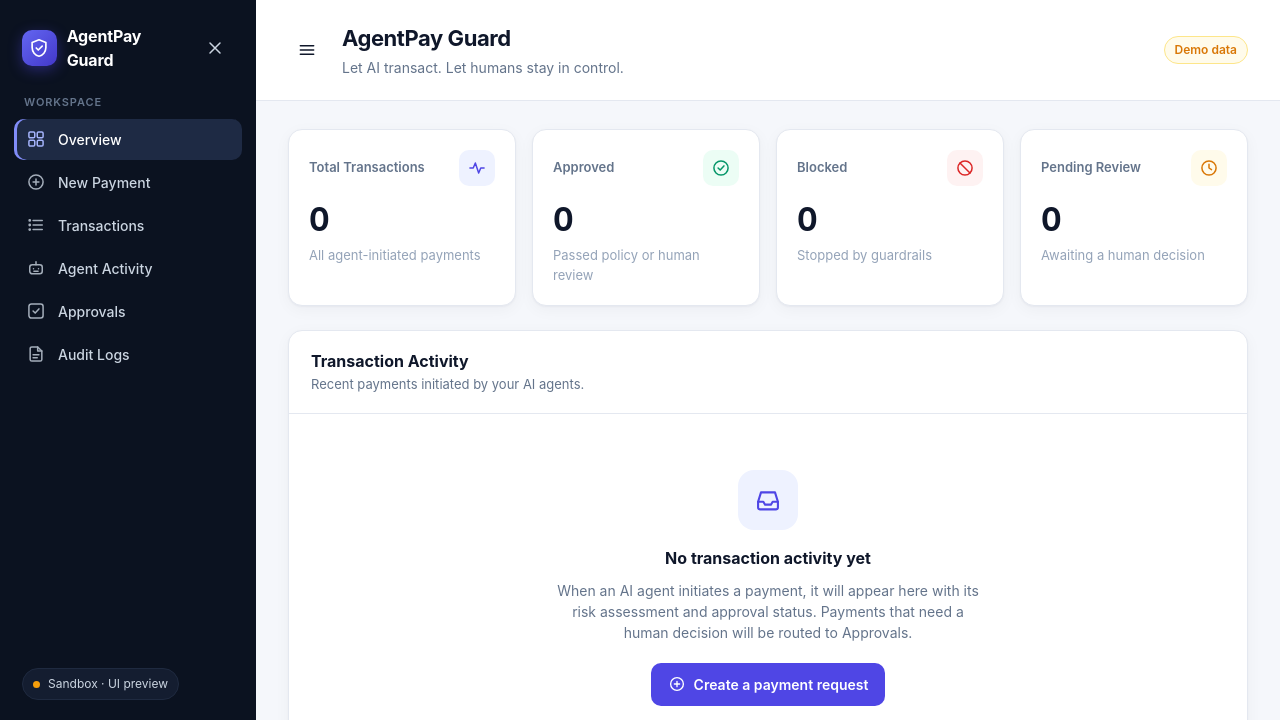
Test: App navigation › opens the form from the Overview empty state
Click the button "Create a payment request" at (768, 684), box [651, 662, 885, 706]
(page scrolled)
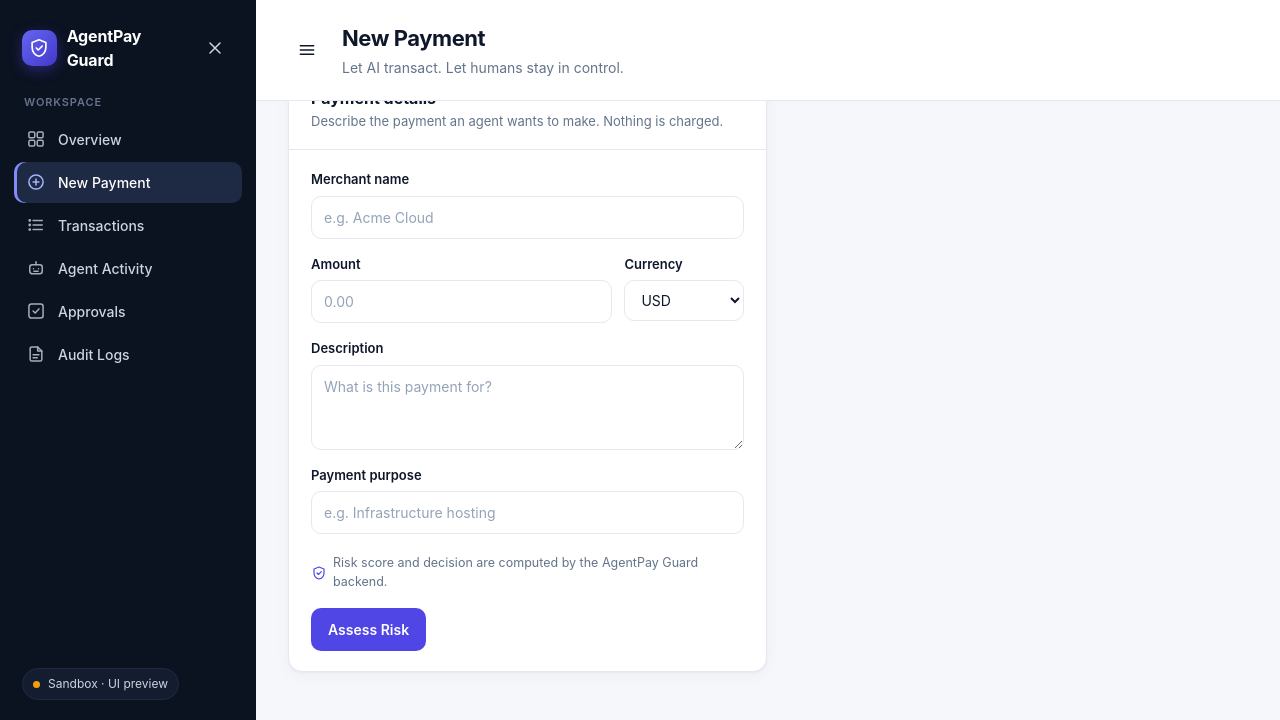
Now the button "Assess Risk" is shown, box [311, 608, 426, 650]
